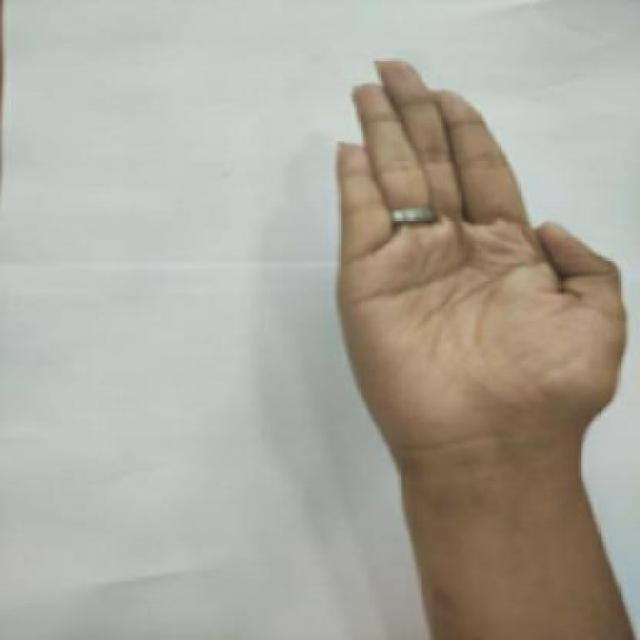without_gloves: (306, 45, 634, 492)
